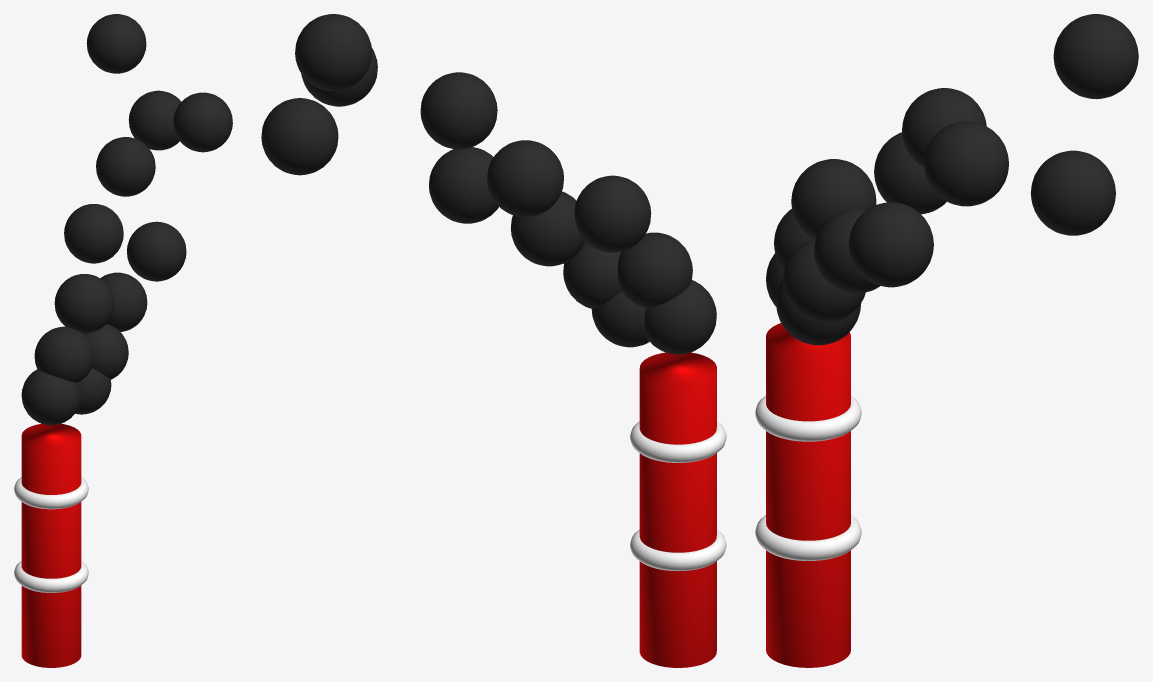
File: kominek.glb
3 views of the same model, side by side, from view 1: azimuth 30°, elevation 25°; view 2: azimuth 150°, elevation 25°; view 3: azimuth 270°, elevation 25° (orthographic). The views are drawn at different scales.
Visible parts, largest first — view 1: Cylinder, Sphere.006, Sphere.007, Sphere.008, Sphere.011, Sphere.010, Sphere.005, Sphere.002, Sphere, Sphere.009, Sphere.004, Sphere.003 (+3 smaller); view 2: Cylinder, Sphere.008, Sphere.009, Sphere.006, Sphere.010, Sphere.005, Sphere.002, Sphere.007, Sphere, Sphere.004, Sphere.003, Sphere.001 (+3 smaller); view 3: Cylinder, Sphere.009, Sphere.007, Sphere.010, Sphere.011, Sphere.005, Sphere.003, Sphere.008, Sphere.006, Sphere.004, Torus, Torus.001 (+3 smaller).
Boxes of the visible parts, bbox=[...] form: Cylinder: bbox=[21, 423, 81, 667]; Sphere.006: bbox=[64, 204, 123, 263]; Sphere.007: bbox=[127, 221, 186, 281]; Sphere.008: bbox=[96, 137, 155, 196]; Sphere.011: bbox=[173, 92, 232, 152]; Sphere.010: bbox=[86, 14, 146, 73]; Sphere.005: bbox=[54, 274, 114, 333]; Sphere.002: bbox=[34, 326, 94, 382]; Sphere: bbox=[21, 369, 80, 425]; Sphere.009: bbox=[128, 90, 181, 150]; Sphere.004: bbox=[100, 272, 147, 331]; Sphere.003: bbox=[84, 324, 128, 379]; Cylinder: bbox=[639, 352, 716, 667]; Sphere.008: bbox=[420, 72, 497, 149]; Sphere.009: bbox=[261, 98, 338, 175]; Sphere.006: bbox=[487, 140, 563, 217]; Sphere.010: bbox=[295, 14, 371, 90]; Sphere.005: bbox=[574, 175, 651, 252]; Sphere.002: bbox=[617, 232, 692, 308]; Sphere.007: bbox=[429, 147, 498, 223]; Sphere: bbox=[644, 280, 716, 354]; Sphere.004: bbox=[510, 191, 585, 266]; Sphere.003: bbox=[563, 241, 621, 308]; Sphere.001: bbox=[591, 291, 649, 347]; Cylinder: bbox=[766, 323, 850, 667]; Sphere.009: bbox=[1030, 150, 1115, 235]; Sphere.007: bbox=[848, 202, 933, 287]; Sphere.010: bbox=[1053, 14, 1138, 99]; Sphere.011: bbox=[924, 121, 1008, 206]; Sphere.005: bbox=[791, 159, 876, 239]; Sphere.003: bbox=[783, 239, 865, 322]; Sphere.008: bbox=[902, 88, 986, 167]; Sphere.006: bbox=[874, 132, 946, 214]; Sphere.004: bbox=[814, 208, 880, 293]; Torus: bbox=[755, 515, 861, 560]; Torus.001: bbox=[755, 395, 861, 441].
Size of the model in its own units: 10.24 by 19.35 by 9.
